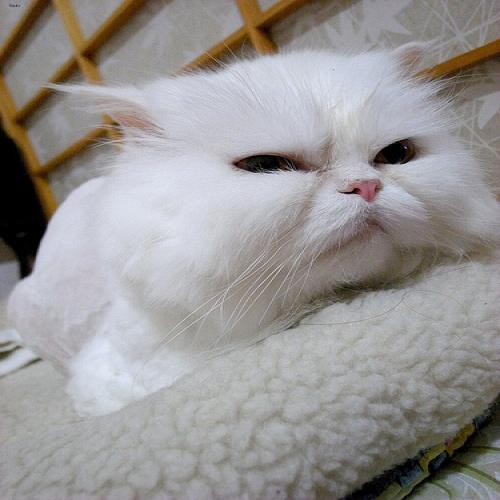persian: (53, 35, 494, 303)
